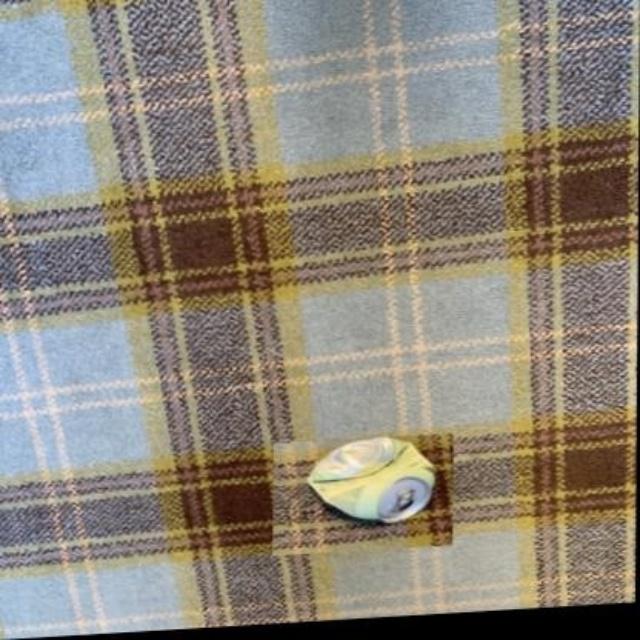trash: (308, 437, 434, 522)
